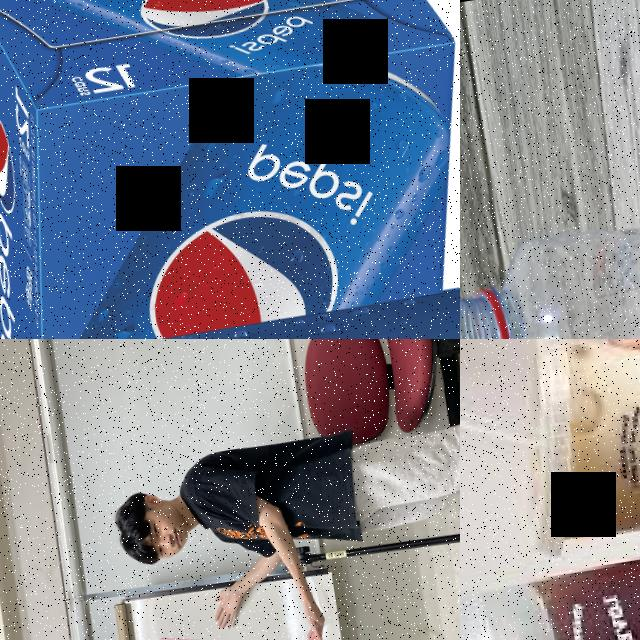bottle: (460, 194, 640, 339)
cup: (493, 339, 640, 562), (460, 509, 640, 640)
